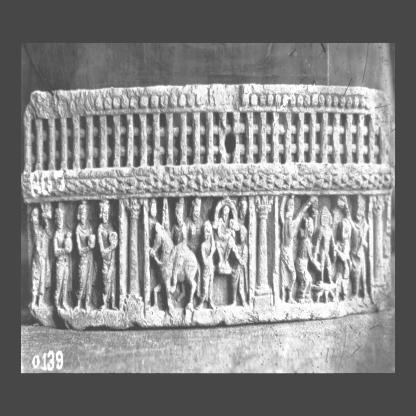buddha-sitting: (211, 200, 244, 274)
buddha-standing: (313, 207, 339, 283)
